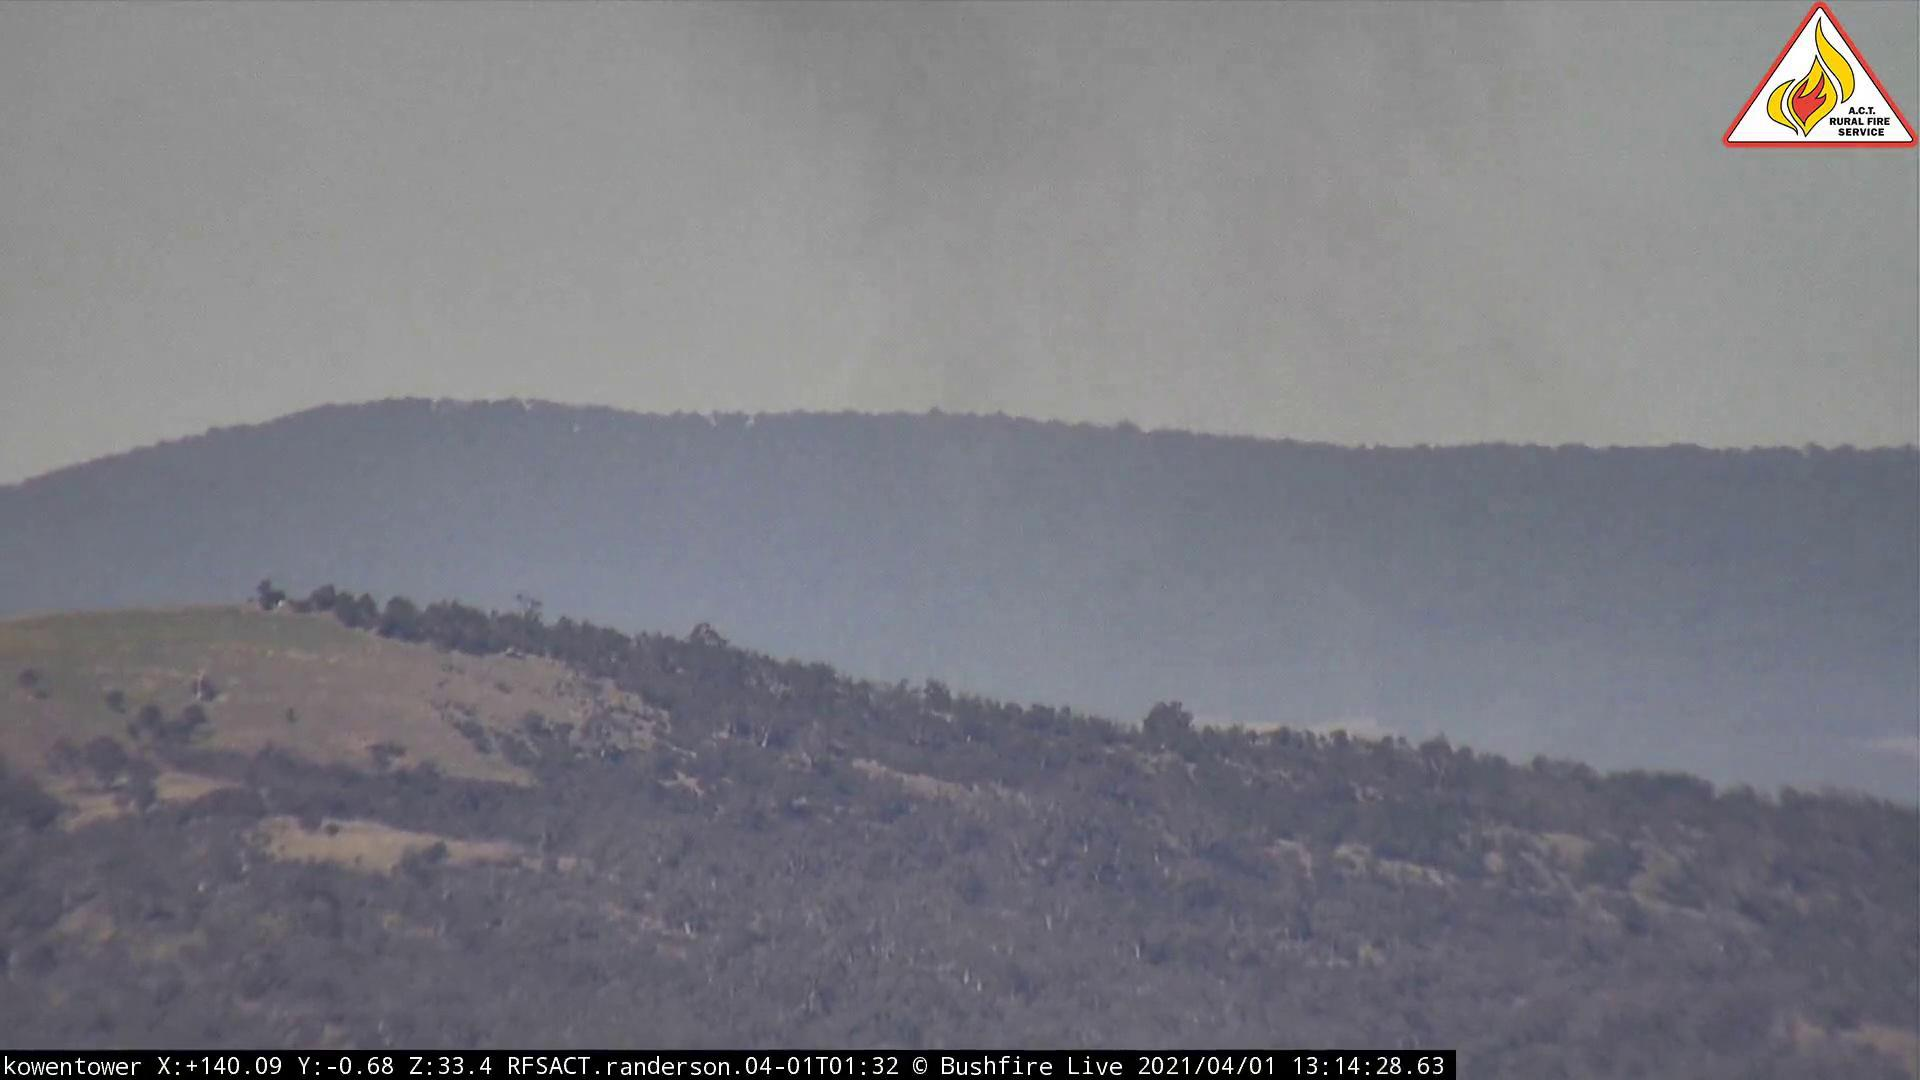instance_salient_object: (572, 3, 1714, 793)
